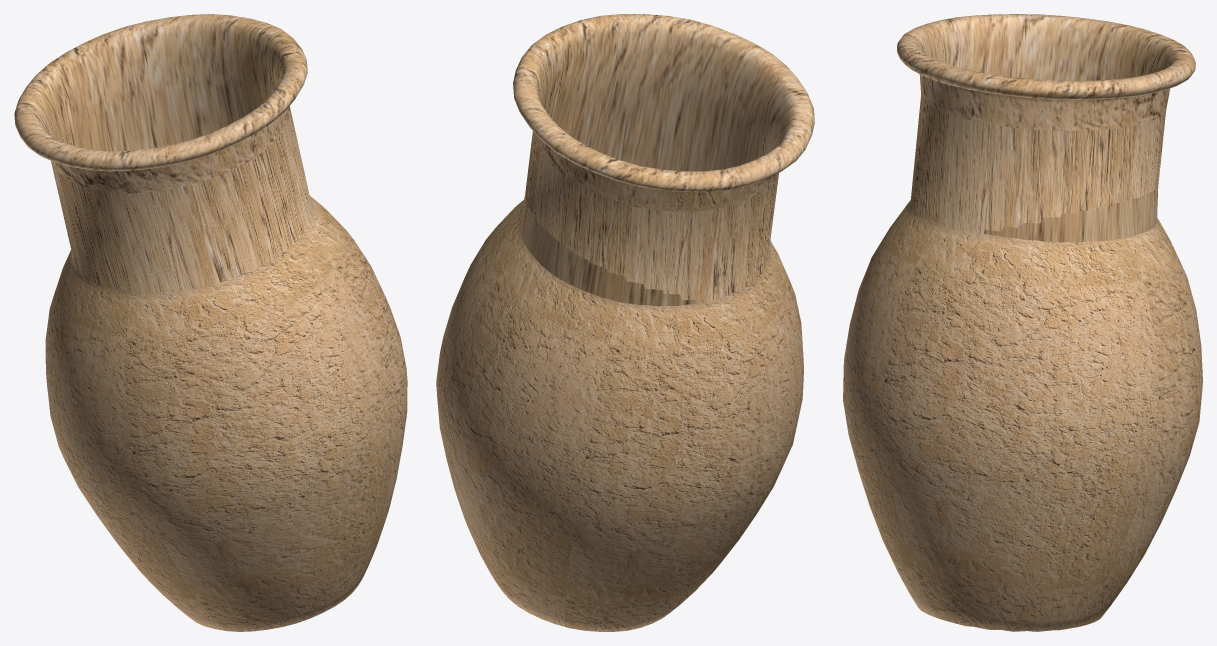
The model's file is goza_ml_drez.glb.
3 renders of one model, left to right at view 1: azimuth 30°, elevation 25°; view 2: azimuth 150°, elevation 25°; view 3: azimuth 270°, elevation 25°, orthographic. The views are drawn at different scales.
Parts seen in each view (by area): view 1: uploads_files_2457244_Ancient+vase; view 2: uploads_files_2457244_Ancient+vase; view 3: uploads_files_2457244_Ancient+vase.
Part boxes in pixels (bbox=[...]): uploads_files_2457244_Ancient+vase: bbox=[14, 14, 407, 631]; uploads_files_2457244_Ancient+vase: bbox=[436, 14, 814, 631]; uploads_files_2457244_Ancient+vase: bbox=[843, 14, 1202, 631].
Size of the model in its own units: 0.575 by 0.9015 by 0.5271.
1 material, 1 textured.
